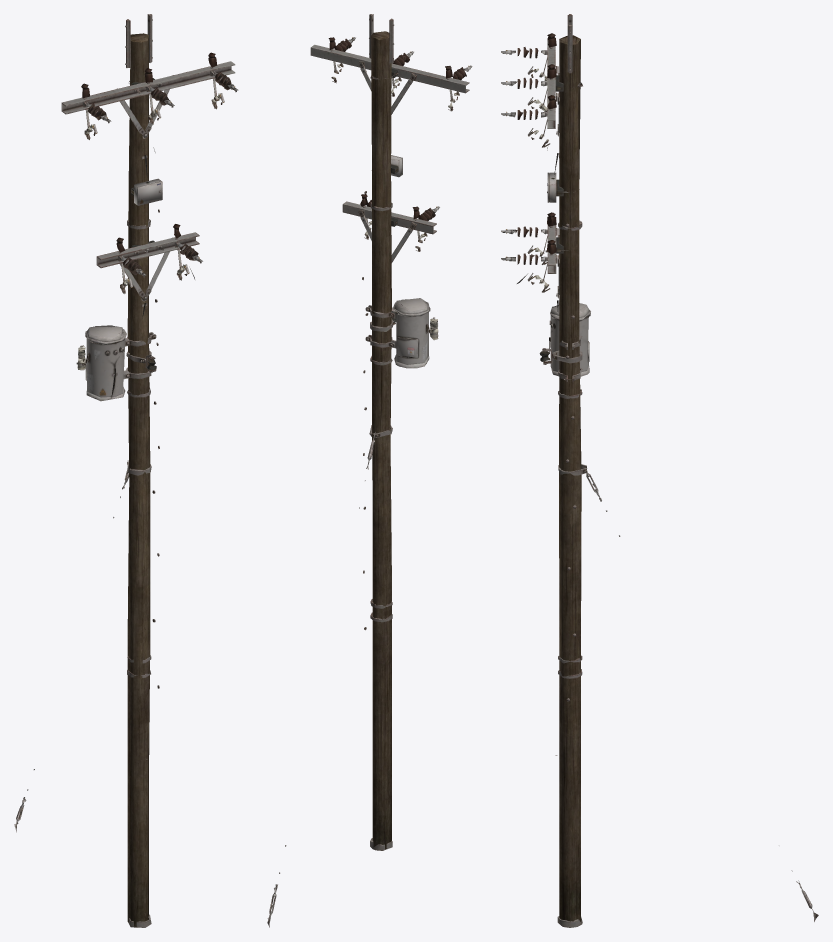
The model's file is pole1.glb.
3 views of the same model, side by side, from view 1: azimuth 30°, elevation 25°; view 2: azimuth 150°, elevation 25°; view 3: azimuth 270°, elevation 25° (orthographic). The views are drawn at different scales.
Parts seen in each view (by area): view 1: preset_01_pole, preset_01_bolt_small_01; view 2: preset_01_pole, preset_01_bolt_small_01; view 3: preset_01_pole, preset_01_bolt_small_01.
Part boxes in pixels (left/top/right/bottom): preset_01_pole: left=127, top=33, right=150, bottom=927; preset_01_bolt_small_01: left=14, top=14, right=238, bottom=927; preset_01_pole: left=371, top=31, right=391, bottom=849; preset_01_bolt_small_01: left=267, top=14, right=472, bottom=927; preset_01_pole: left=559, top=35, right=581, bottom=921; preset_01_bolt_small_01: left=501, top=14, right=818, bottom=927.
Bounding box in the file's own units: 1.2 × 6.13 × 1.96.
2 materials, 2 textured.
